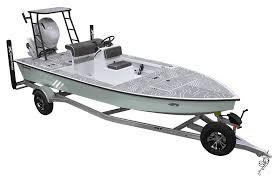fishing boat: (3, 4, 242, 116)
